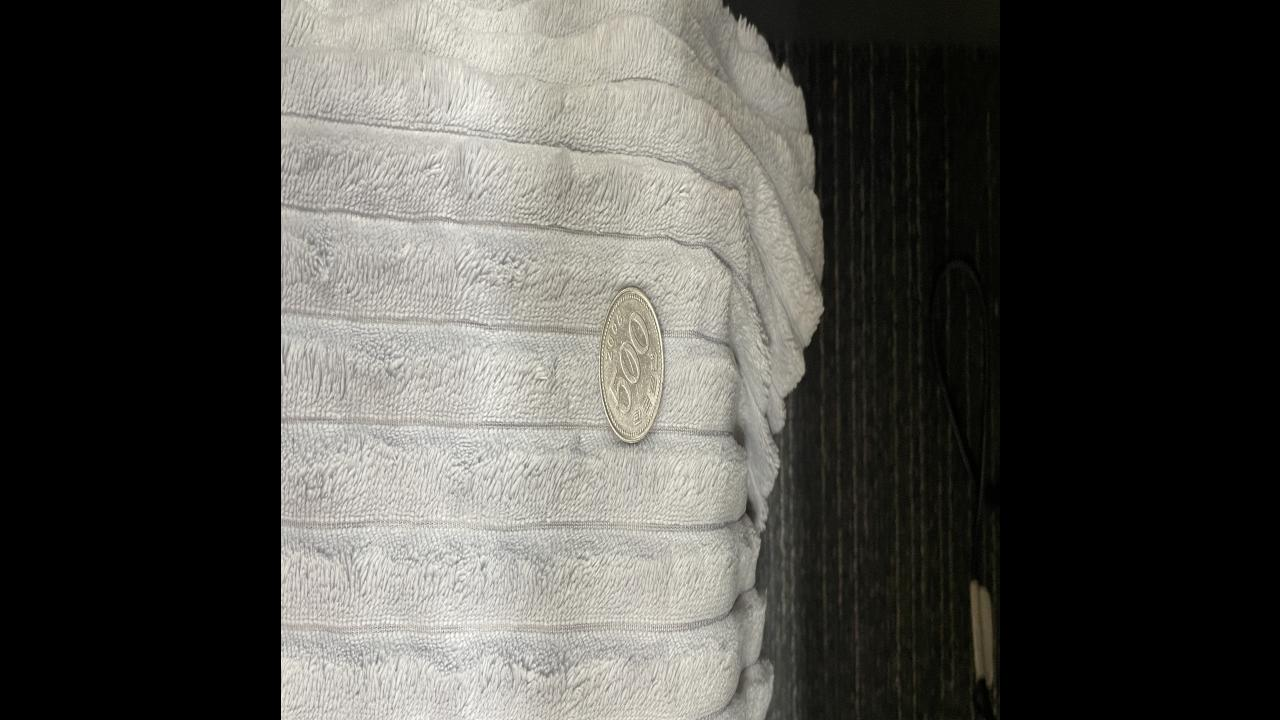coin: (598, 286, 664, 446)
